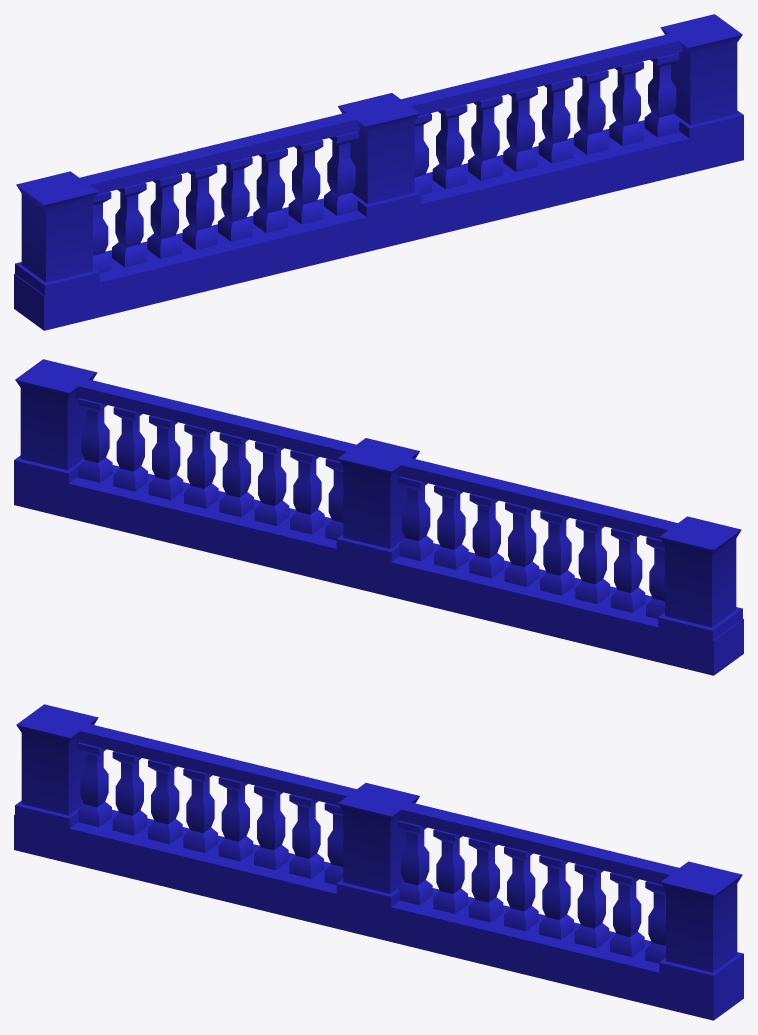
The model's file is palace_roof_top_fence_A.fbx.
3 views of the same model, one above another, from view 1: azimuth 30°, elevation 25°; view 2: azimuth 150°, elevation 25°; view 3: azimuth 330°, elevation 25° (orthographic).
Visible parts, largest first — view 1: Fence_A; view 2: Fence_A; view 3: Fence_A.
Boxes of the visible parts, x1=… form: Fence_A: x1=14, y1=14, x2=743, y2=330; Fence_A: x1=14, y1=359, x2=743, y2=675; Fence_A: x1=14, y1=704, x2=743, y2=1020.
Bounding box in the file's own units: 402 × 68.44 × 30.04.
